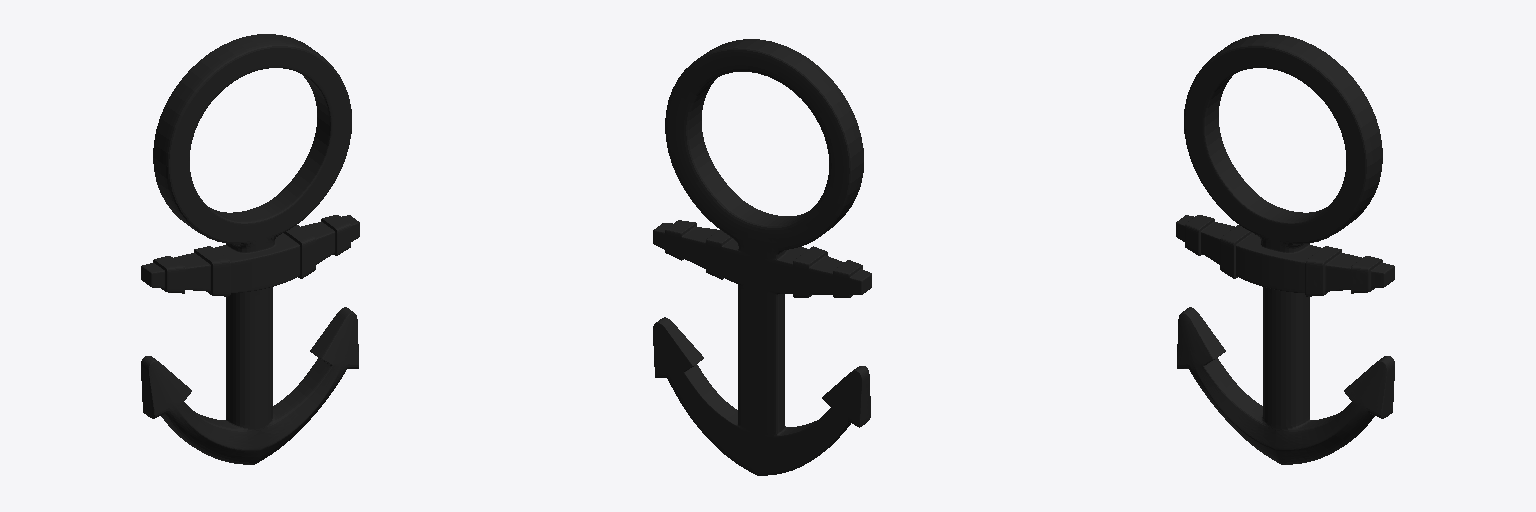
File: anchor.obj
The picture shows the model from 3 angles: view 1: azimuth 30°, elevation 25°; view 2: azimuth 150°, elevation 25°; view 3: azimuth 330°, elevation 25°; orthographic projection.
Parts seen in each view (by area): view 1: 20312_Anchor_v2.001; view 2: 20312_Anchor_v2.001; view 3: 20312_Anchor_v2.001.
Part boxes in pixels (left/top/right/bottom): 20312_Anchor_v2.001: left=141, top=34, right=359, bottom=464; 20312_Anchor_v2.001: left=653, top=39, right=871, bottom=475; 20312_Anchor_v2.001: left=1176, top=34, right=1394, bottom=464.
Bounding box in the file's own units: 9.97 × 19.37 × 1.75.